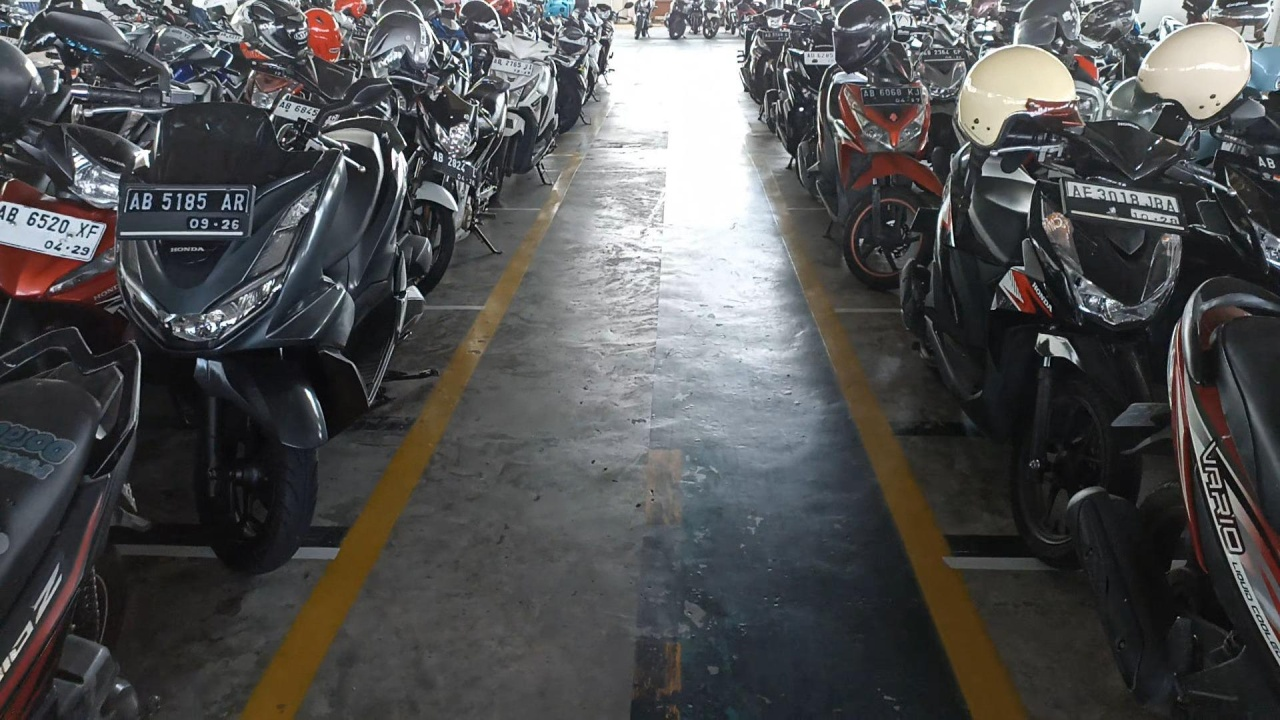plate: (118, 187, 252, 238), (1065, 179, 1187, 232), (430, 149, 477, 187), (862, 86, 923, 106), (490, 56, 534, 76)
